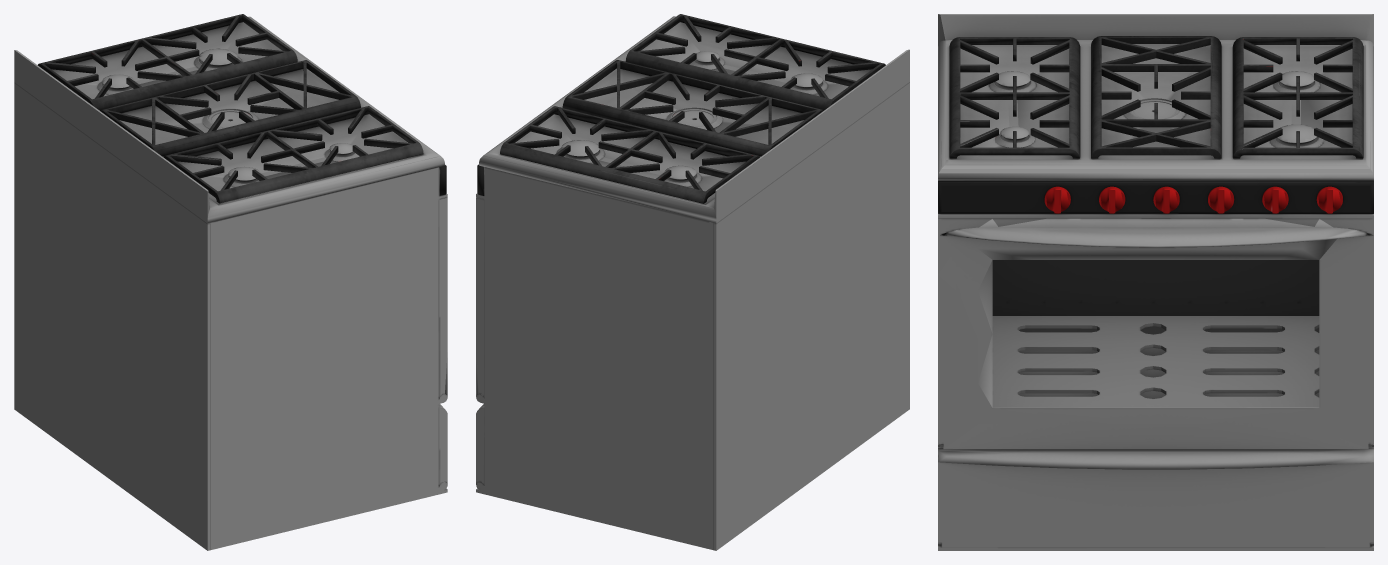
3 renders of one model, left to right at view 1: azimuth 30°, elevation 25°; view 2: azimuth 150°, elevation 25°; view 3: azimuth 270°, elevation 25°, orthographic. The views are drawn at different scales.
Parts seen in each view (by area): view 1: Oven; view 2: Oven; view 3: Oven.
Boxes of the visible parts, x1=… form: Oven: x1=14, y1=14, x2=447, y2=550; Oven: x1=476, y1=14, x2=909, y2=550; Oven: x1=938, y1=14, x2=1373, y2=550.
Size of the model in its own units: 0.7545 by 0.9614 by 0.9855.
Materials: 1 (1 with a texture image).
